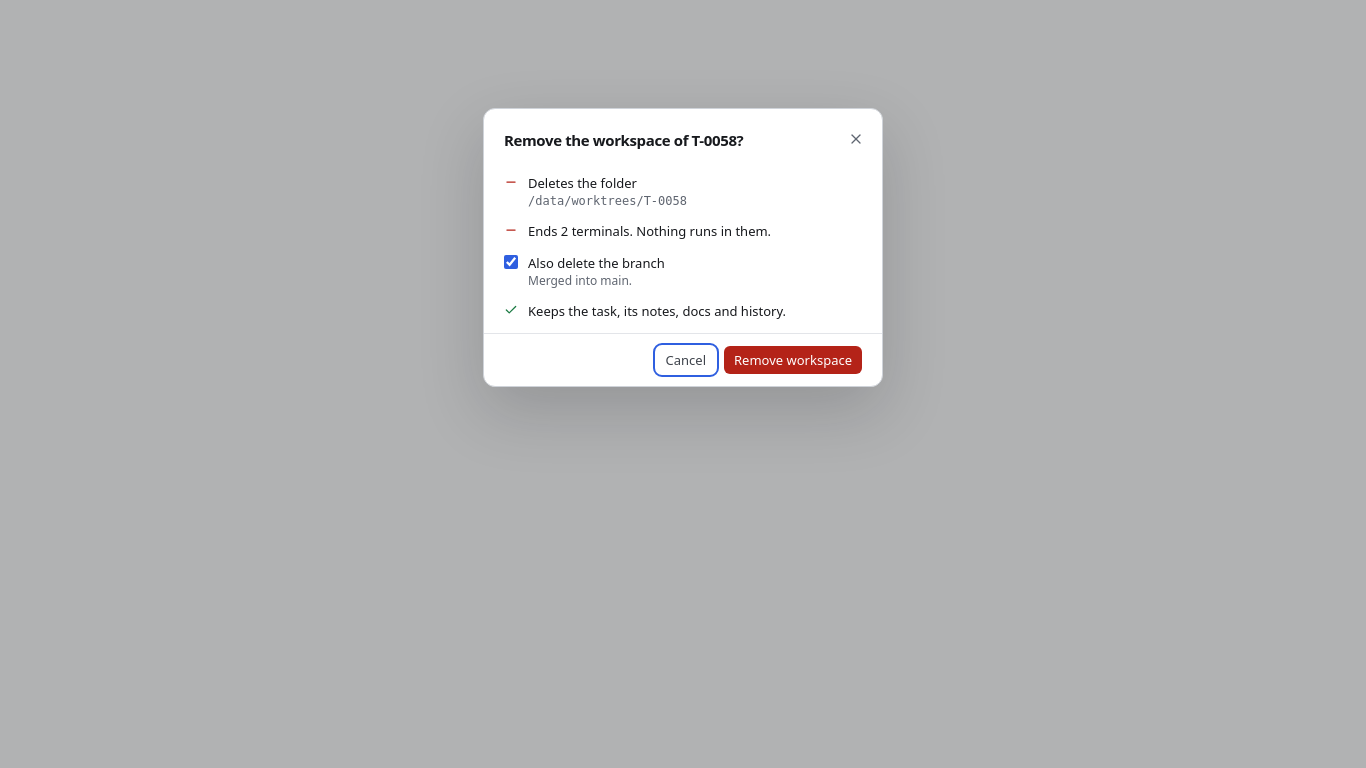
Scenario: RemoveWorkspaceDialog › stays open while the daemon works, and shows its error inside
Click the button "Remove workspace": (793, 360) [724, 346, 862, 374]
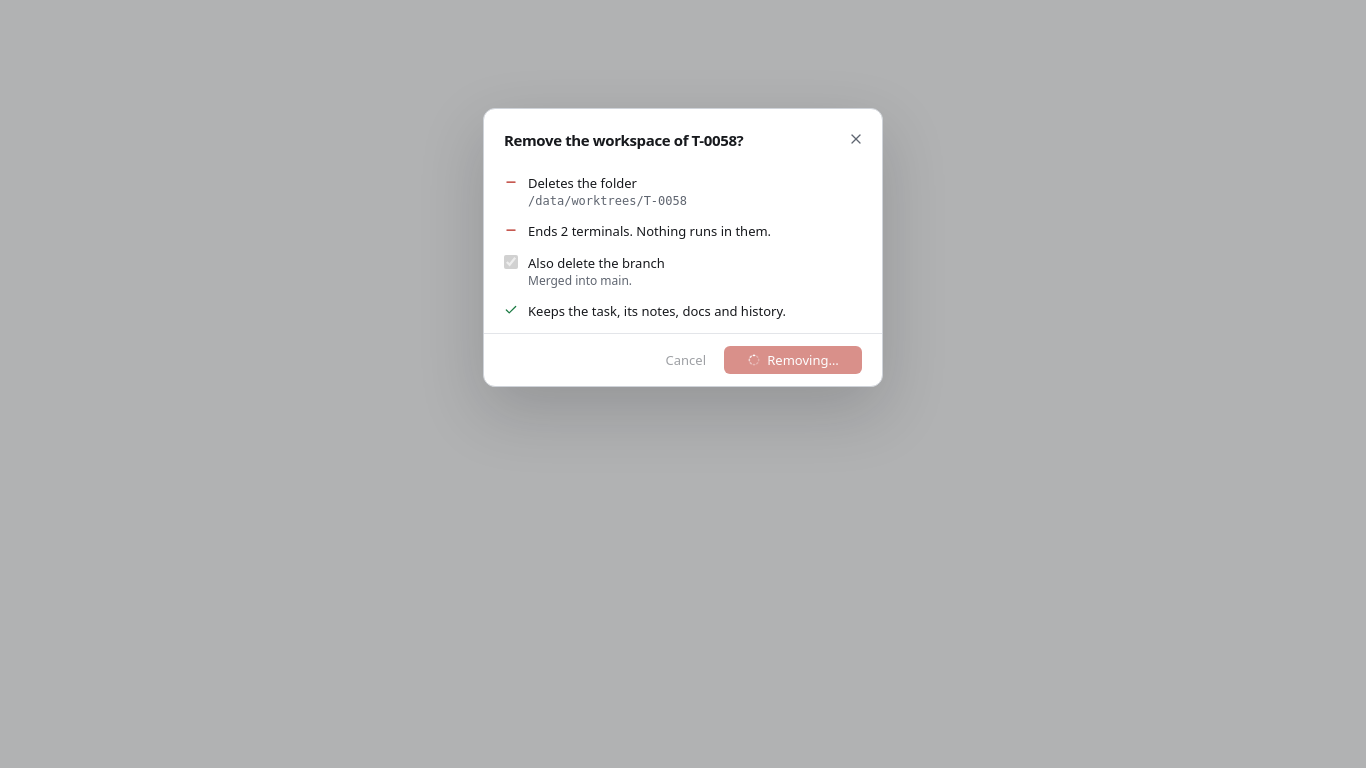
Expected: the button "Removing…" is shown, [724, 346, 862, 374]
Expected: the button "Cancel" is disabled, [656, 346, 716, 374]
Press Escape
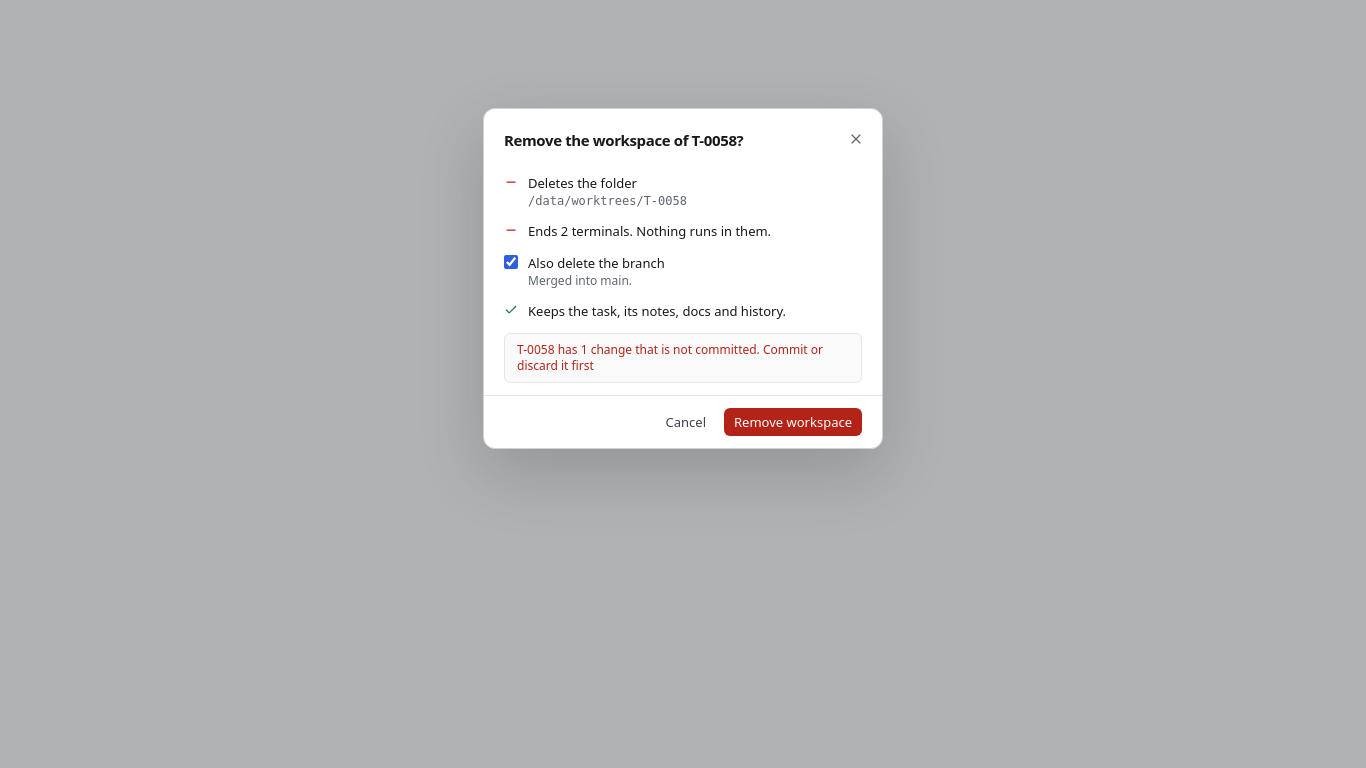
Expected: the message "T-0058 has 1 change that is not committed. Commit or discard it first" is shown, [504, 332, 862, 382]
Expected: the message shows "Commit or discard it first", [517, 340, 823, 374]
Expected: the button "Remove workspace" is shown, [724, 408, 862, 436]
